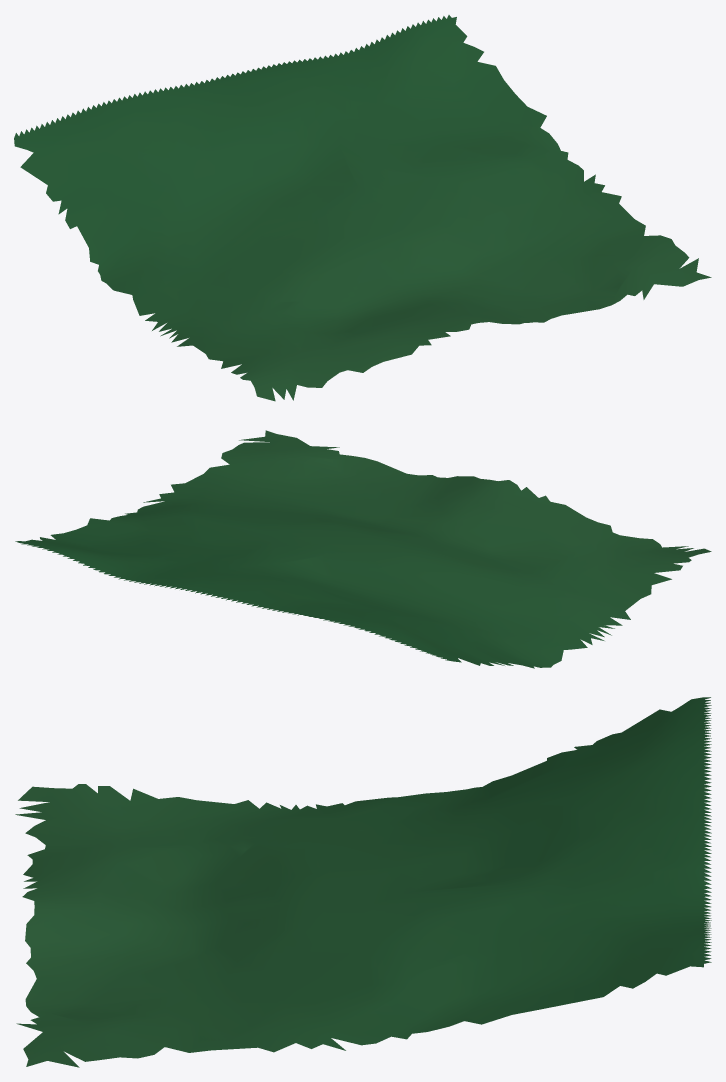
File: payo_land_x2_y5_lod1.glb
3 views of the same model, one above another, from view 1: azimuth 30°, elevation 25°; view 2: azimuth 150°, elevation 25°; view 3: azimuth 270°, elevation 25° (orthographic). The views are drawn at different scales.
Visible parts, largest first — view 1: payo_land_x2_y5; view 2: payo_land_x2_y5; view 3: payo_land_x2_y5.
Boxes of the visible parts, left/top/right/bottom form: payo_land_x2_y5: left=14, top=15, right=711, bottom=401; payo_land_x2_y5: left=15, top=430, right=711, bottom=668; payo_land_x2_y5: left=15, top=697, right=711, bottom=1067.
Size of the model in its own units: 268 by 55.31 by 264.
